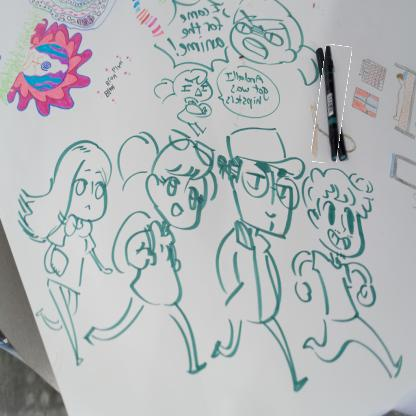Pen: (314, 45, 348, 164)
